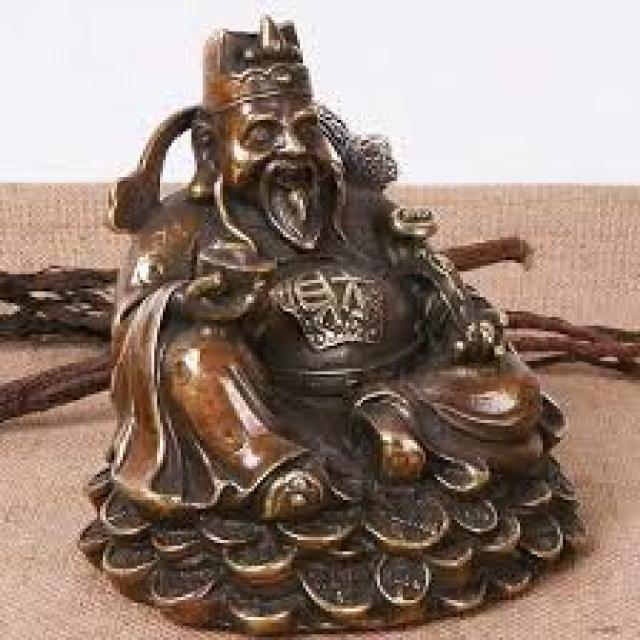Cai shen: (150, 14, 372, 334)
